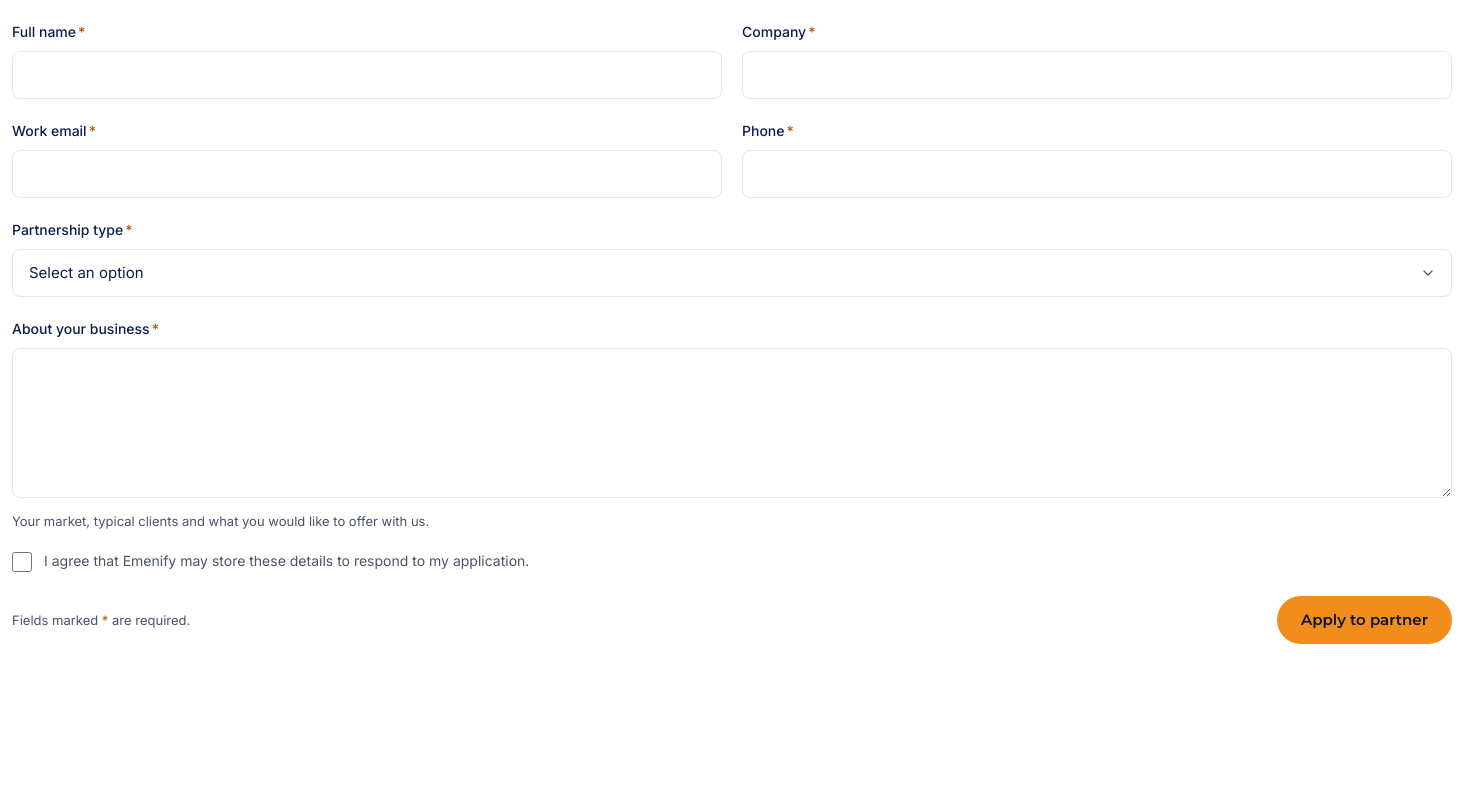
PartnershipForm › shows inline errors for missing and invalid fields
Type "not-an-email" into the field labelled "Work email*" at (367, 174), box [12,150,722,198]
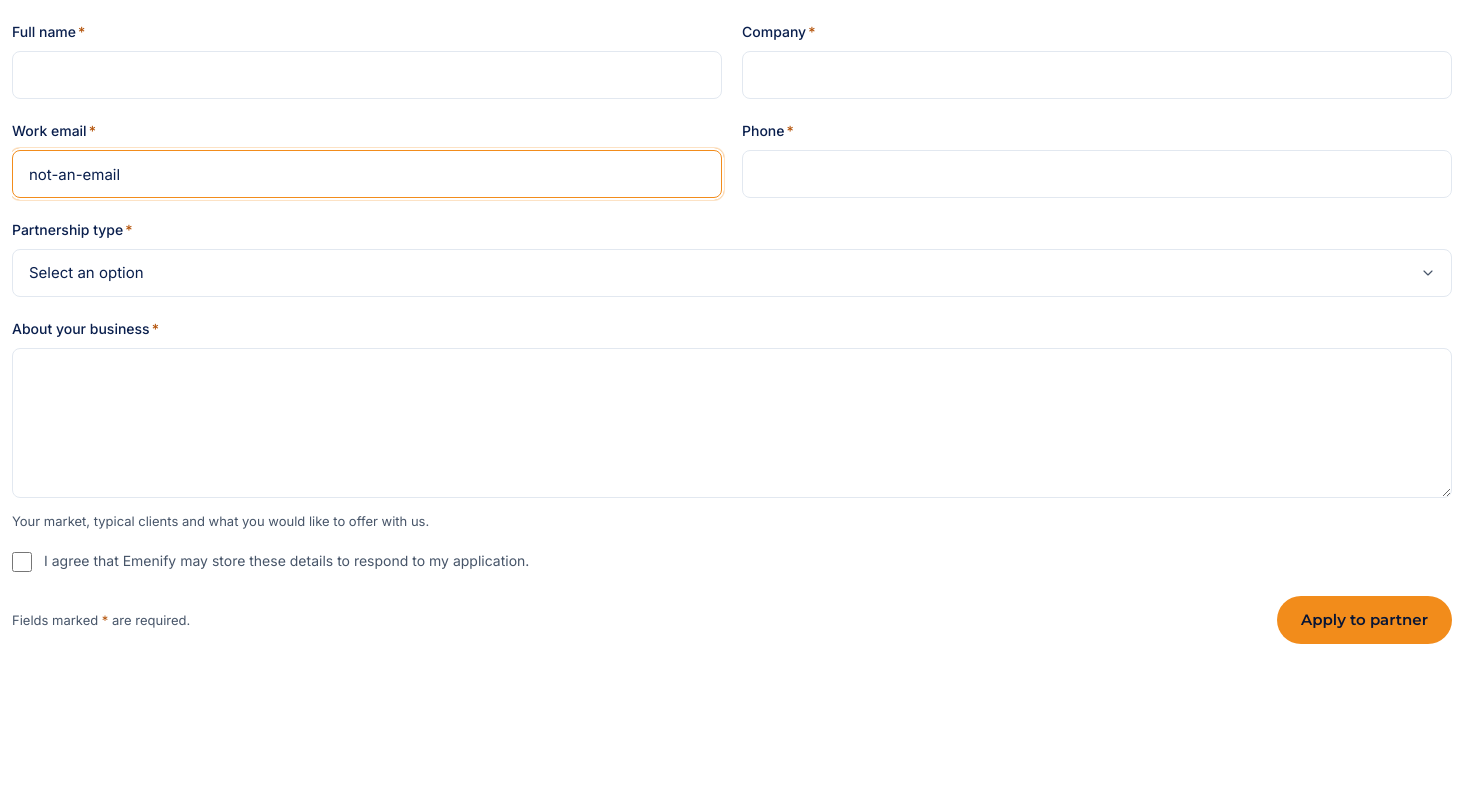
Type "abc" into the field labelled "Phone*" at (1097, 174), box [742,150,1452,198]
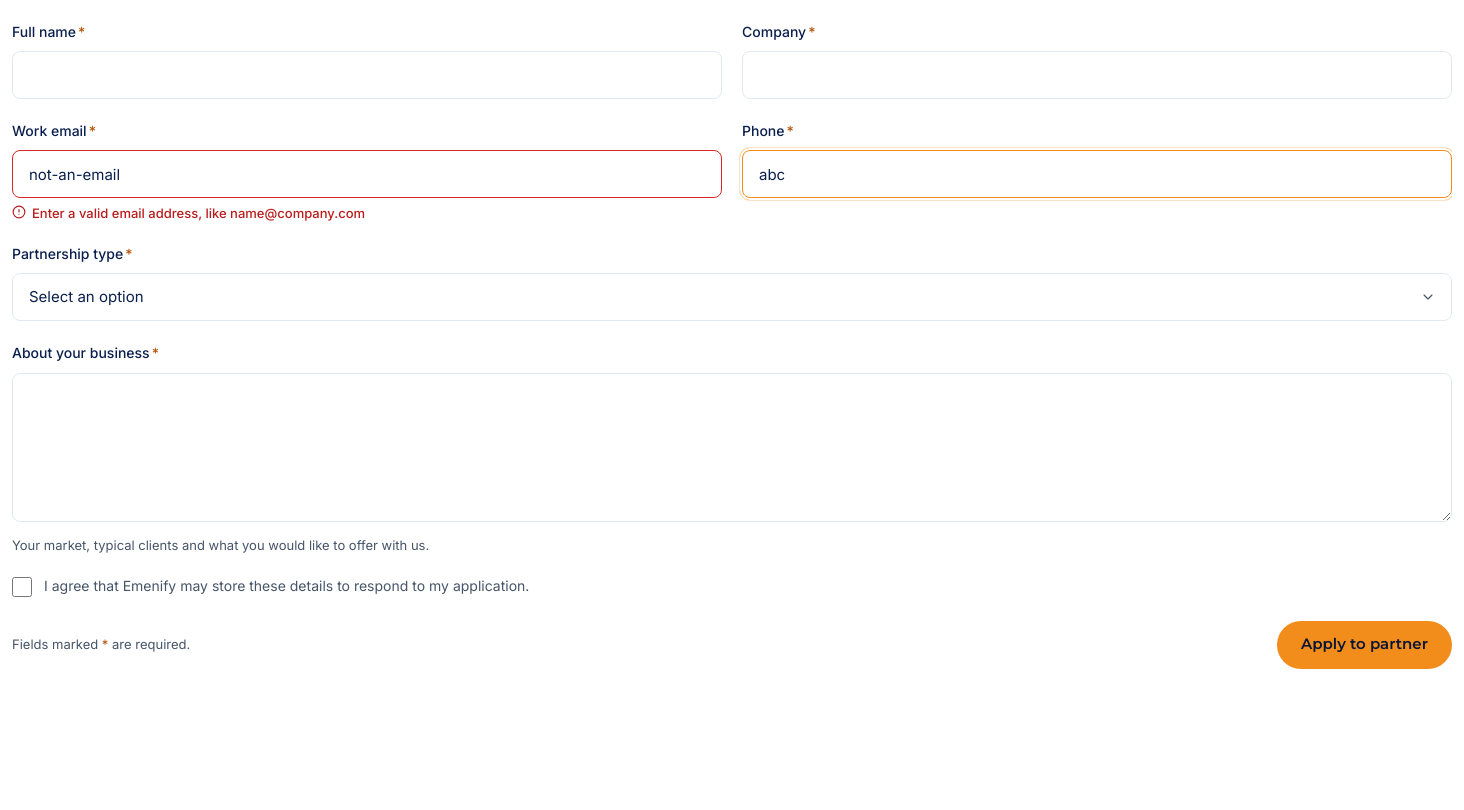
Click the button "Apply to partner" at (1364, 644), box [1277,620,1452,668]
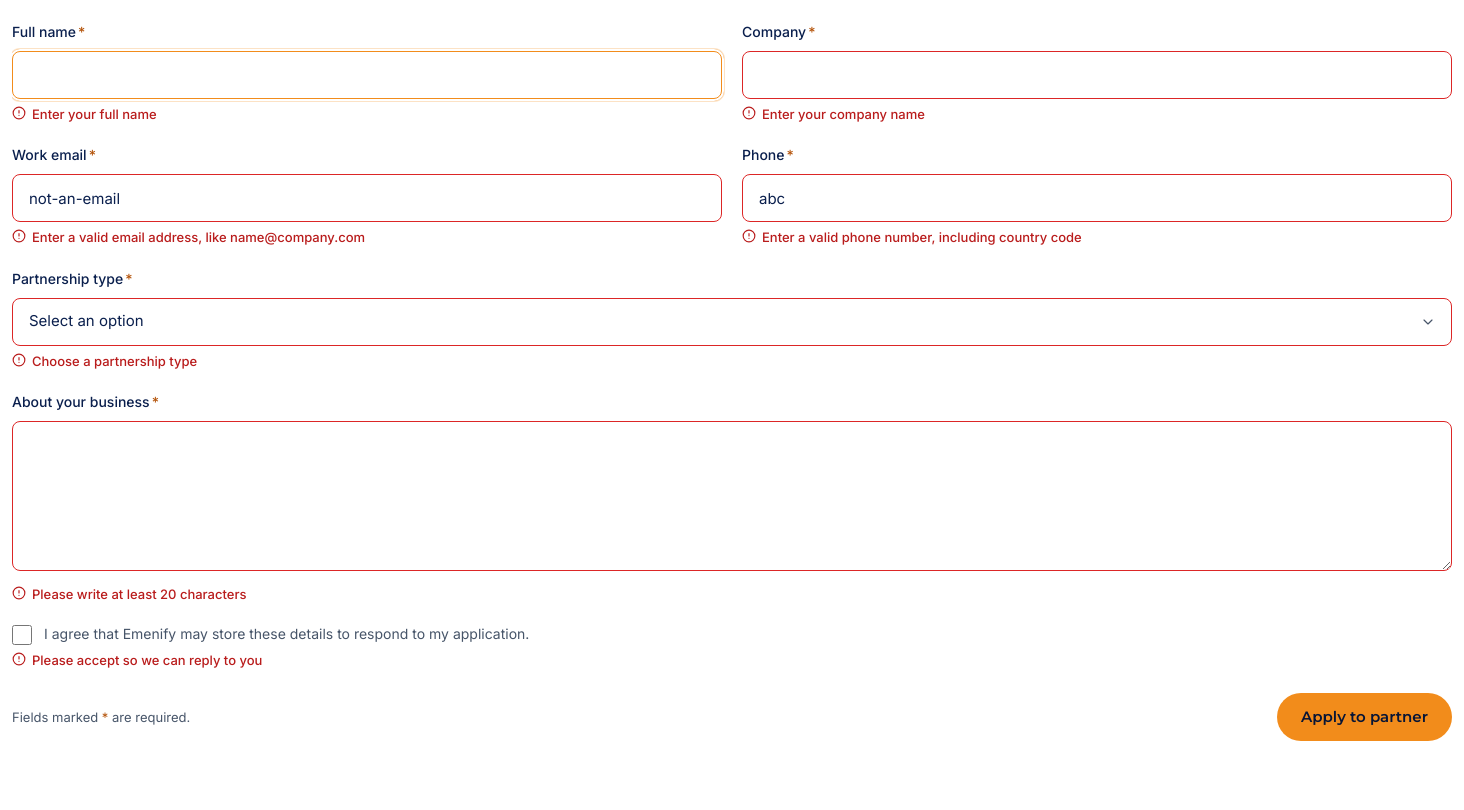
expect the text "Enter a valid email address, like name@company.com" is shown: met, box [12,229,365,245]
expect the text "Enter your company name" is shown: met, box [742,106,925,122]
expect the text "Enter a valid phone number, including country code" is shown: met, box [742,229,1082,245]
